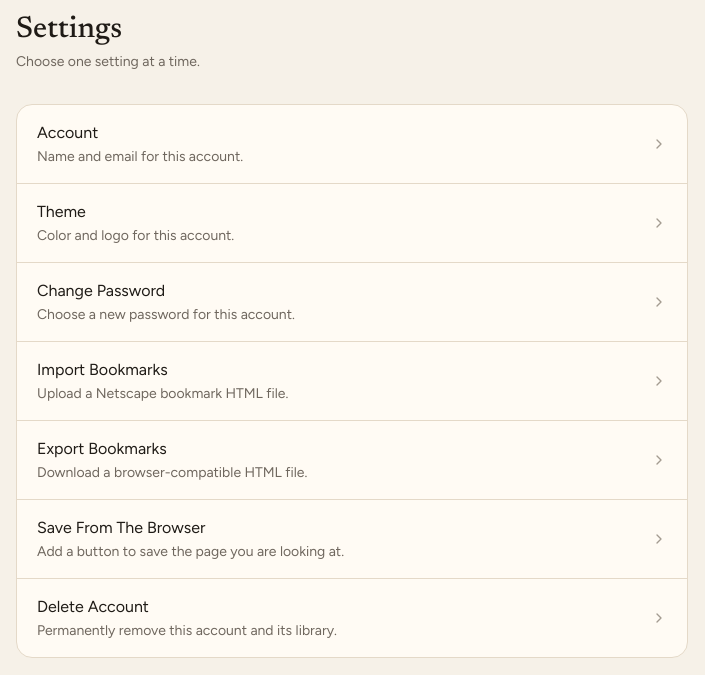
Test case: settings › lists options without password fields until one is chosen
Check: the link "Theme Color and logo for this account." is shown, box [37,202,667,244]
Check: the field labelled "Current password" is not shown
Click the link "Change Password Choose a new password for this account." at [101, 290], box [37,281,667,323]
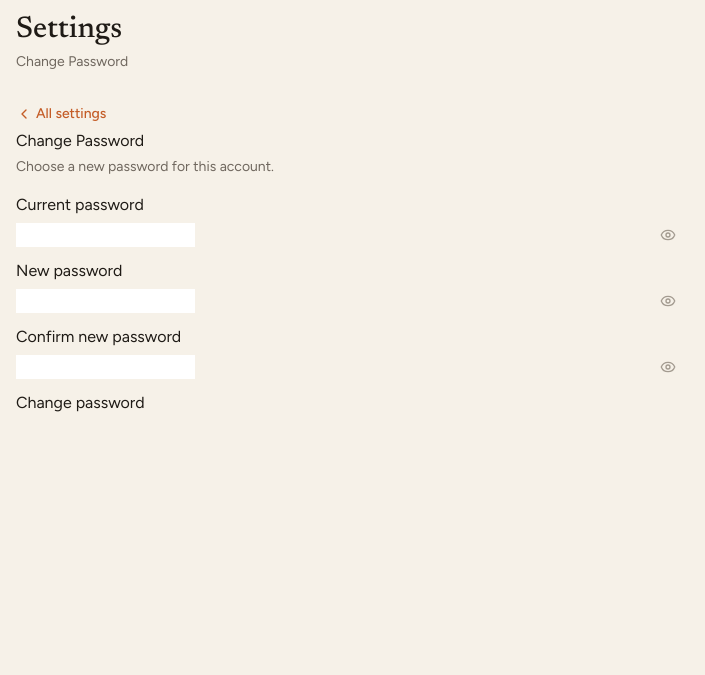
Check: the link labelled "email" is gone
